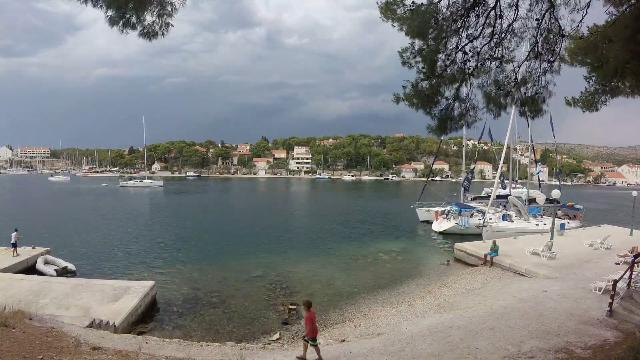Sailboat: (116, 173, 166, 190), (46, 170, 72, 184)
